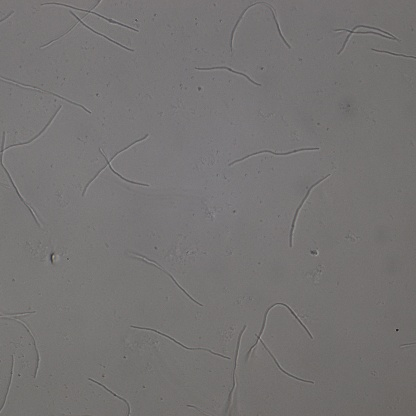Sensitive: (249, 301, 316, 385), (41, 1, 139, 54), (81, 132, 150, 195), (126, 250, 203, 306), (1, 73, 90, 112), (130, 324, 229, 359), (228, 2, 291, 53), (2, 153, 43, 228), (289, 174, 330, 247), (1, 307, 43, 376), (1, 104, 61, 151), (334, 20, 398, 56), (227, 144, 319, 167), (89, 380, 134, 416), (194, 64, 260, 88), (228, 326, 244, 411), (1, 356, 15, 414), (372, 49, 416, 63)
